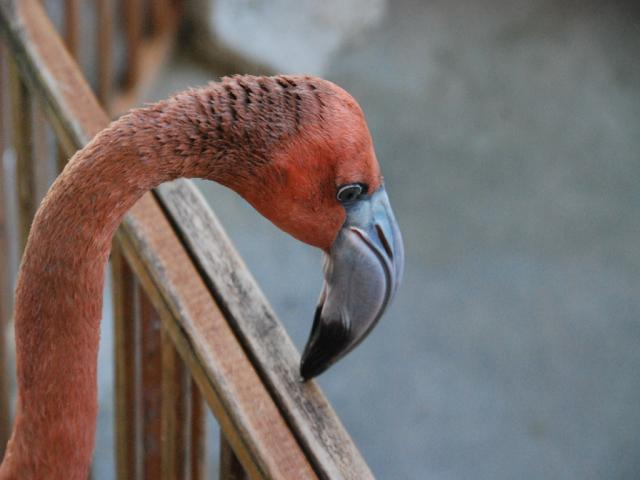Bird: (0, 71, 409, 480)
